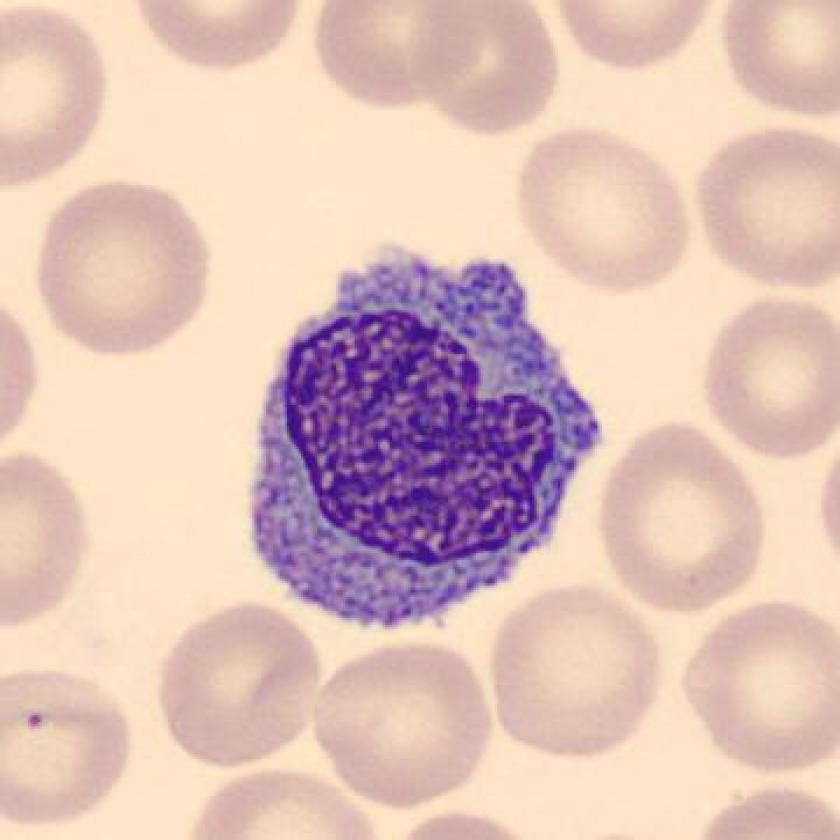monocyte: (230, 223, 622, 656)
